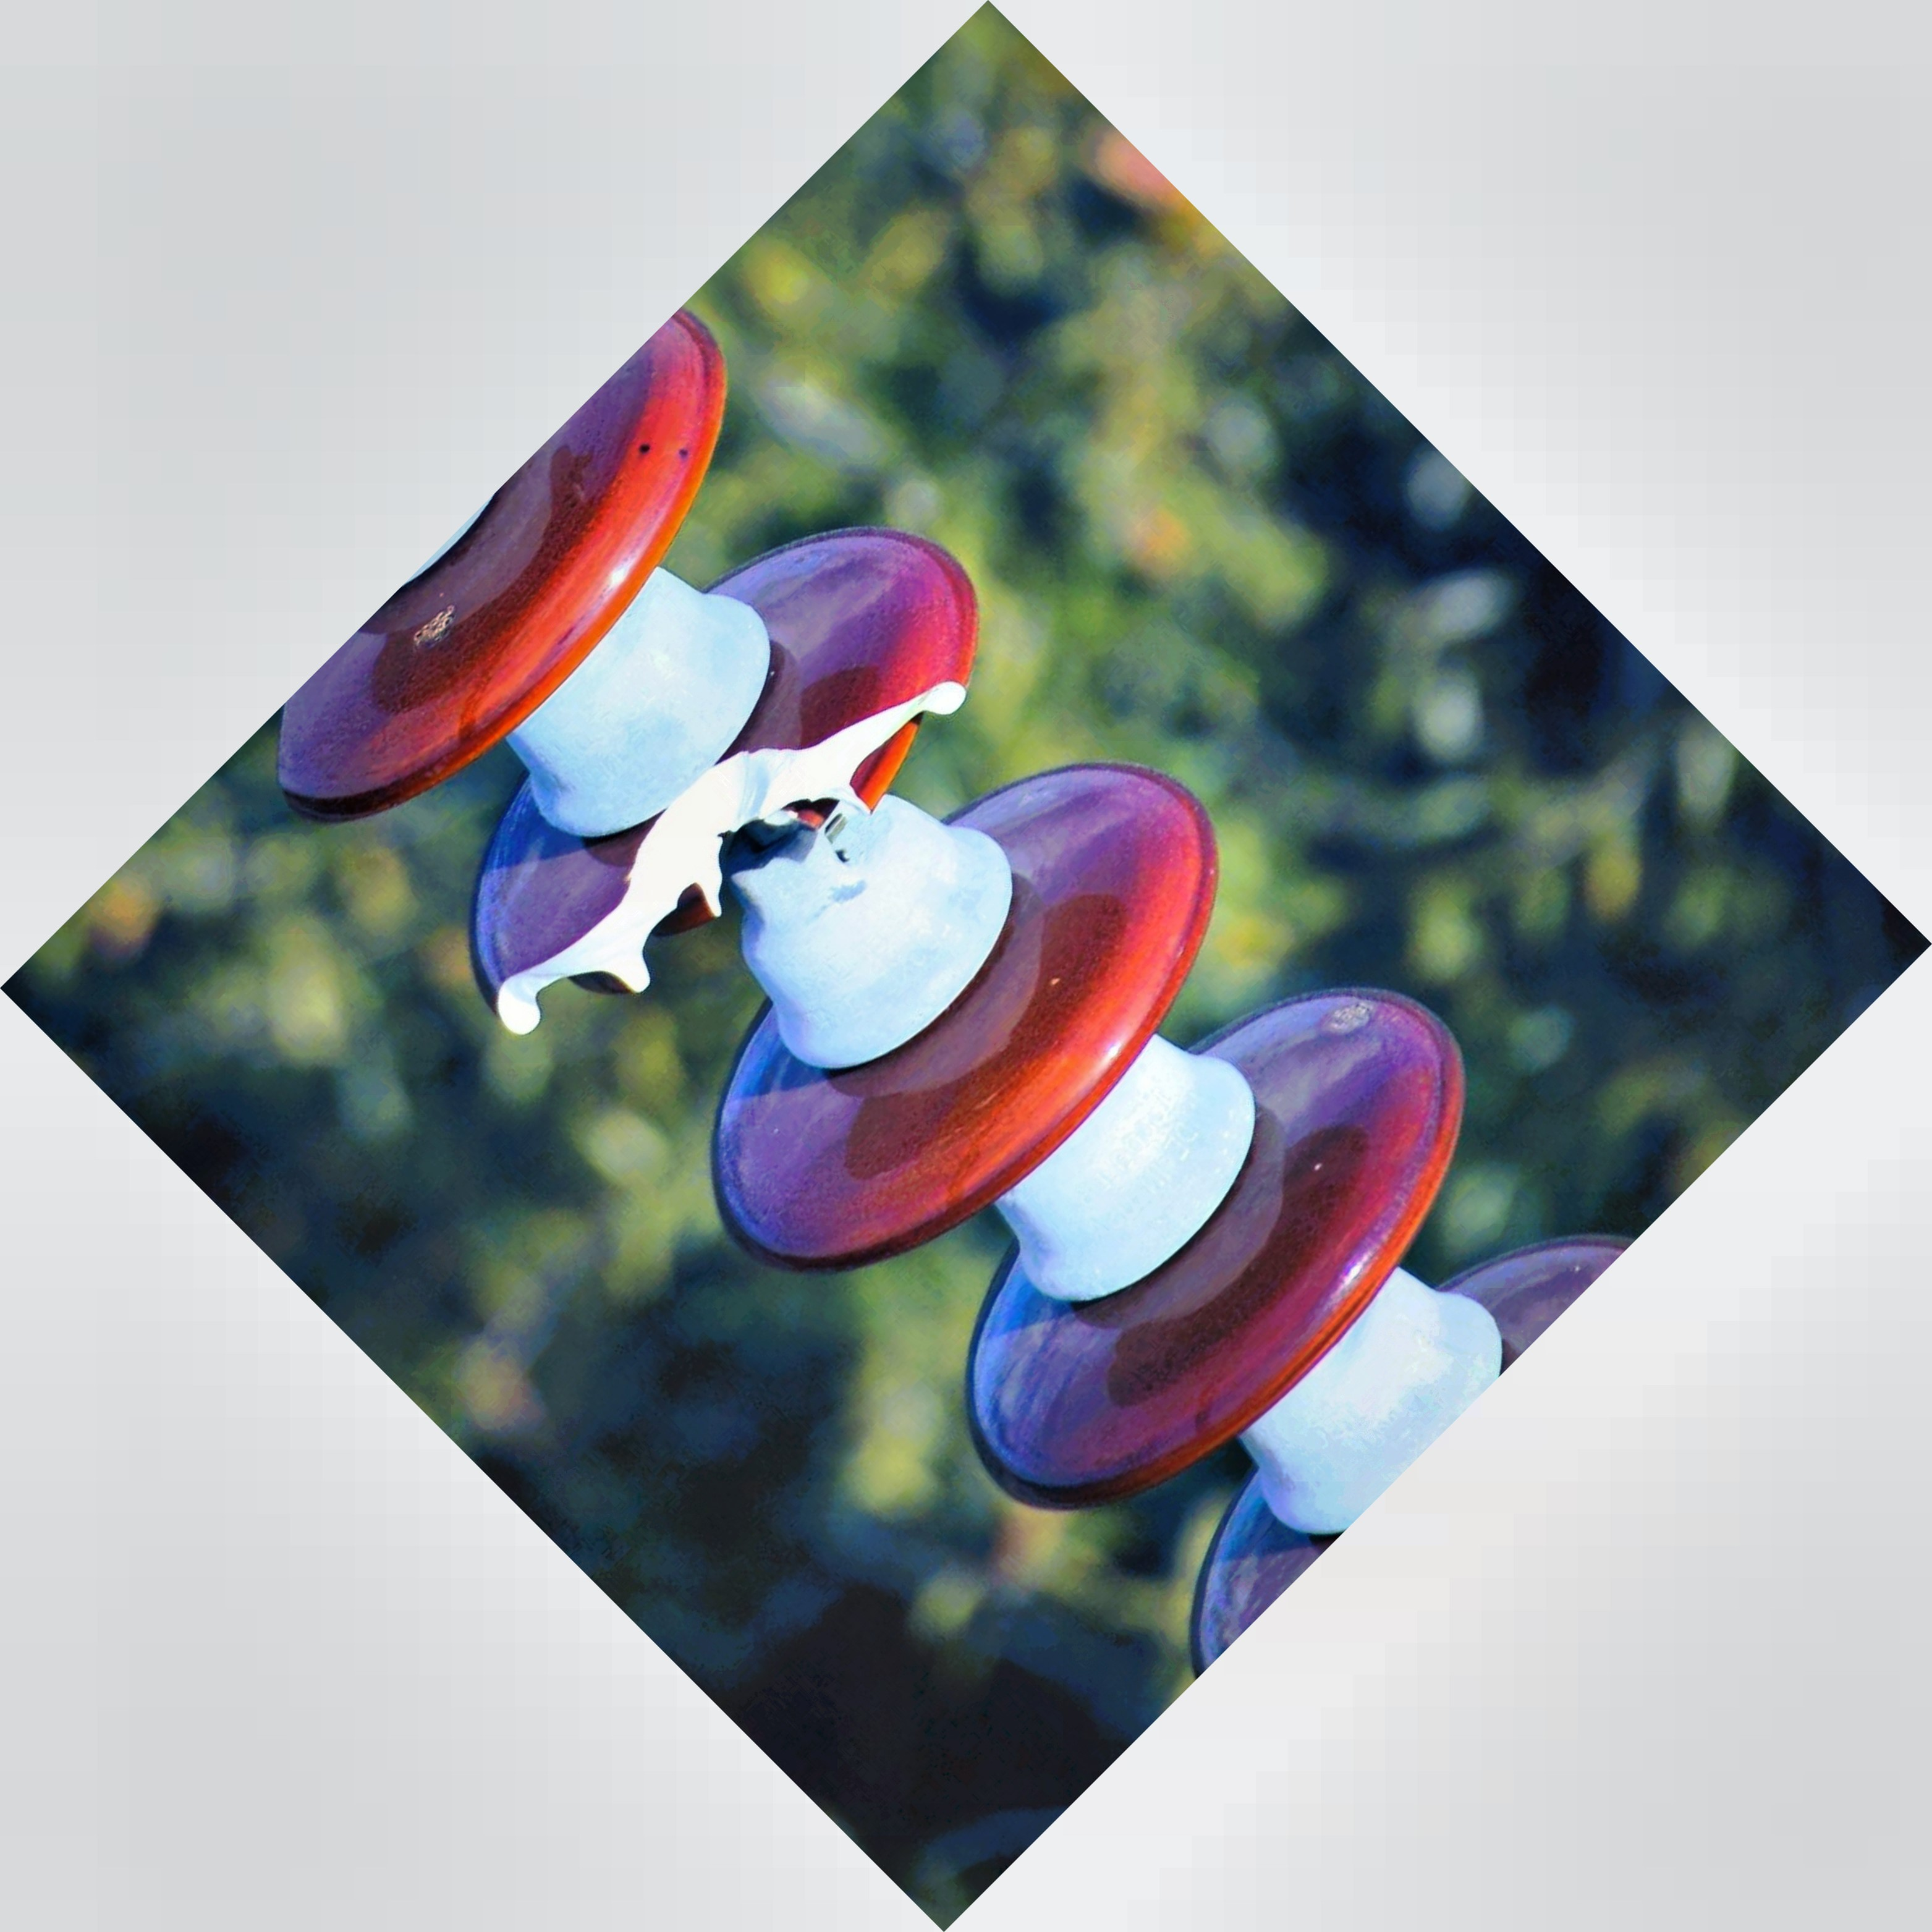insulator breakage: (472, 515, 996, 1047)
